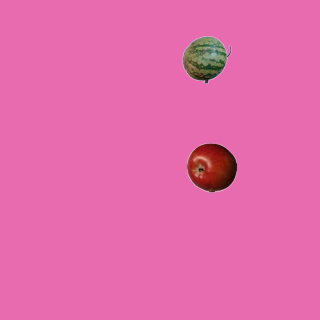Apple Braeburn: (186, 142, 236, 192)
Watermelon: (181, 34, 231, 84)
